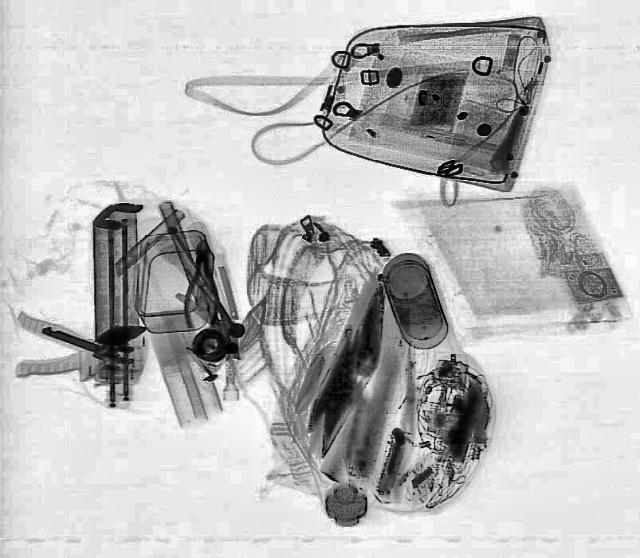Pliers: (184, 238, 218, 328)
